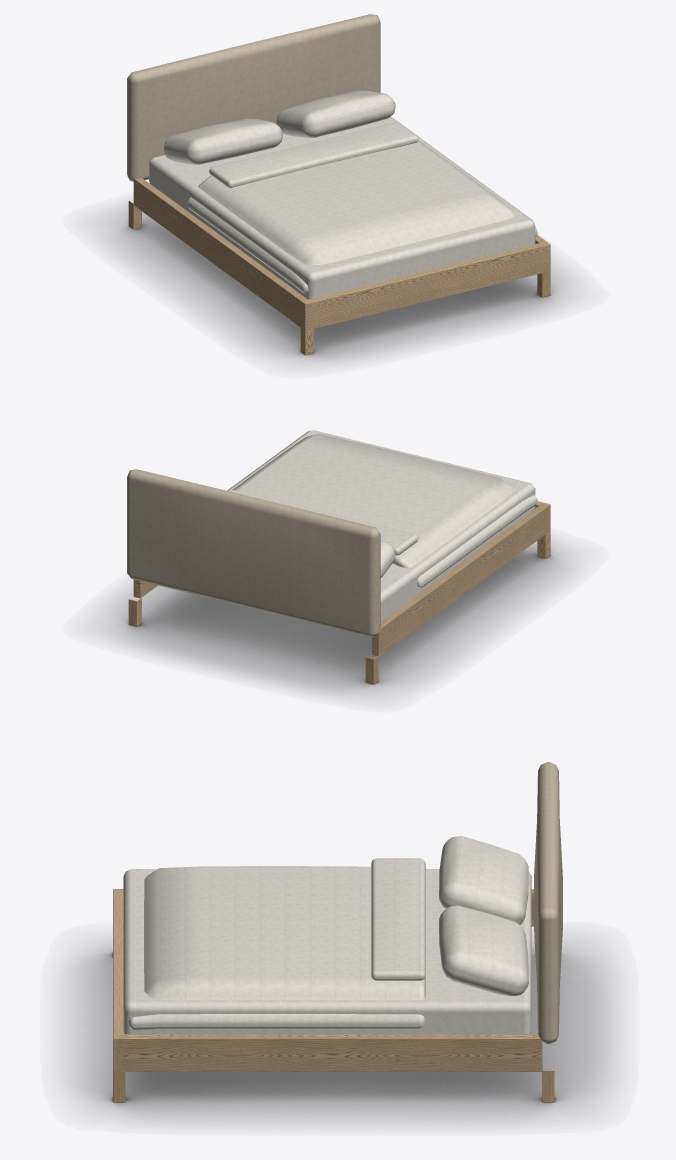
Rendered from bed.glb.
The picture shows the model from 3 angles, top to bottom: view 1: azimuth 30°, elevation 25°; view 2: azimuth 150°, elevation 25°; view 3: azimuth 270°, elevation 25°; orthographic projection. The views are drawn at different scales.
Parts seen in each view (by area): view 1: bed_LOD0, bed_Shadow; view 2: bed_LOD0, bed_Shadow; view 3: bed_LOD0, bed_Shadow.
Boxes of the visible parts, <box> form: bed_LOD0: <box>127,14,550,354</box>; bed_Shadow: <box>106,207,568,362</box>; bed_LOD0: <box>127,430,550,684</box>; bed_Shadow: <box>106,542,568,695</box>; bed_LOD0: <box>113,762,562,1101</box>; bed_Shadow: <box>70,936,611,1122</box>.
Size of what is drawn, in the model's own units: 2.69 by 1.03 by 3.11.
Materials: 4 (4 with a texture image).
